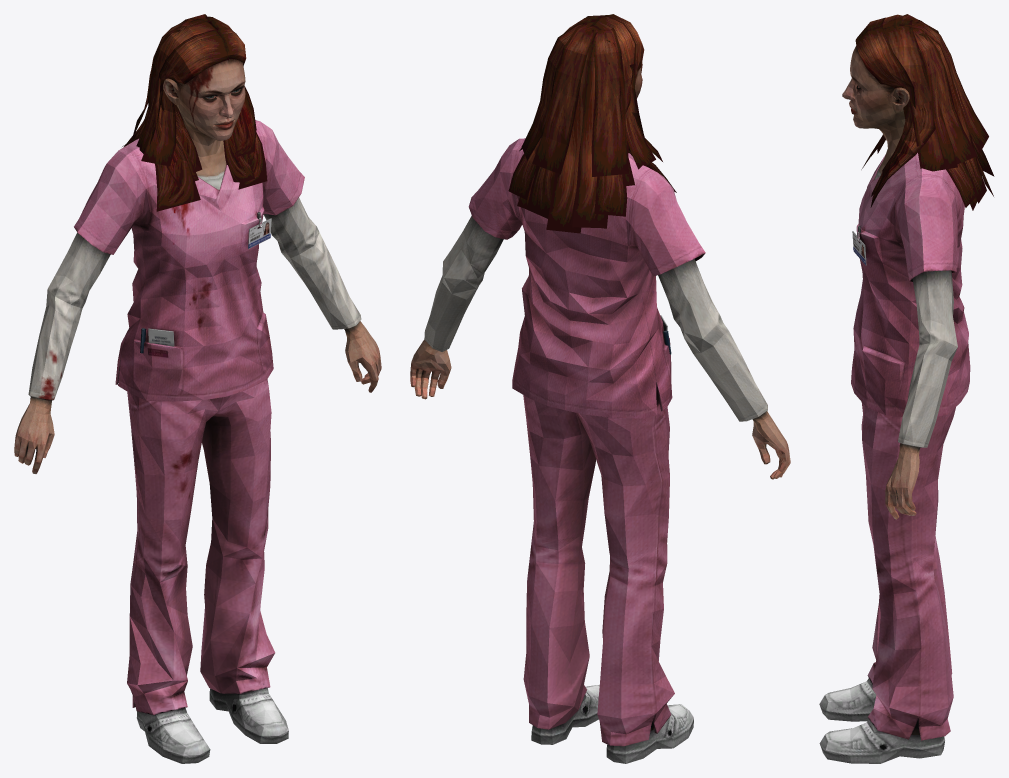
Rendered from sh lisa.obj.
3 renders of one model, left to right at view 1: azimuth 30°, elevation 25°; view 2: azimuth 150°, elevation 25°; view 3: azimuth 270°, elevation 25°, orthographic. The views are drawn at different scales.
Visible parts, largest first — view 1: COS_COS_Tex_0064_0_dd, sh_lisa_sh_lisa_Tex_0, COS_COS_Tex_0061_, COS_COS_Tex_0061_0_dd; view 2: COS_COS_Tex_0064_0_dd, sh_lisa_sh_lisa_Tex_0, COS_COS_Tex_0061_0_dd; view 3: COS_COS_Tex_0064_0_dd, sh_lisa_sh_lisa_Tex_0, COS_COS_Tex_0061_, COS_COS_Tex_0061_0_dd.
Part boxes in pixels (<box>): COS_COS_Tex_0064_0_dd: <box>28,120,361,763</box>; sh_lisa_sh_lisa_Tex_0: <box>122,14,267,211</box>; COS_COS_Tex_0061_: <box>163,59,245,189</box>; COS_COS_Tex_0061_0_dd: <box>14,321,381,473</box>; COS_COS_Tex_0064_0_dd: <box>424,138,767,763</box>; sh_lisa_sh_lisa_Tex_0: <box>508,14,676,233</box>; COS_COS_Tex_0061_0_dd: <box>410,339,790,479</box>; COS_COS_Tex_0064_0_dd: <box>819,153,970,763</box>; sh_lisa_sh_lisa_Tex_0: <box>855,14,994,210</box>; COS_COS_Tex_0061_: <box>842,46,909,180</box>; COS_COS_Tex_0061_0_dd: <box>885,443,920,519</box>.
Bounding box in the file's own units: 1.02 × 1.87 × 0.4144.
7 materials, 7 textured.
